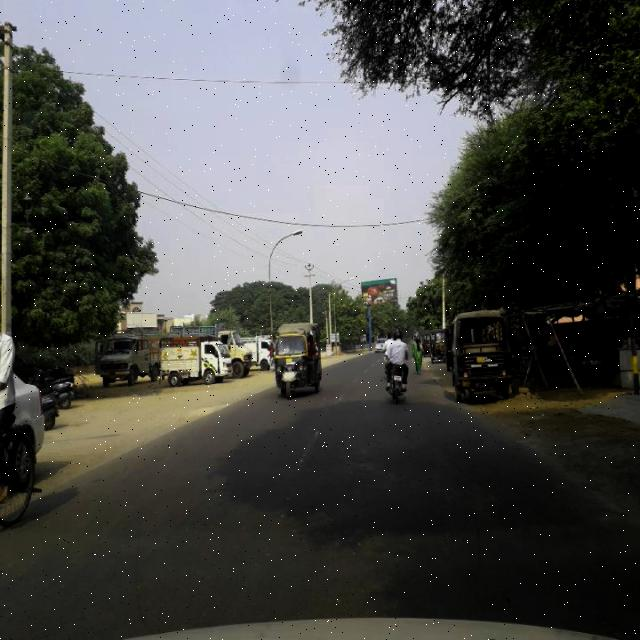D44: (295, 422, 324, 474)
